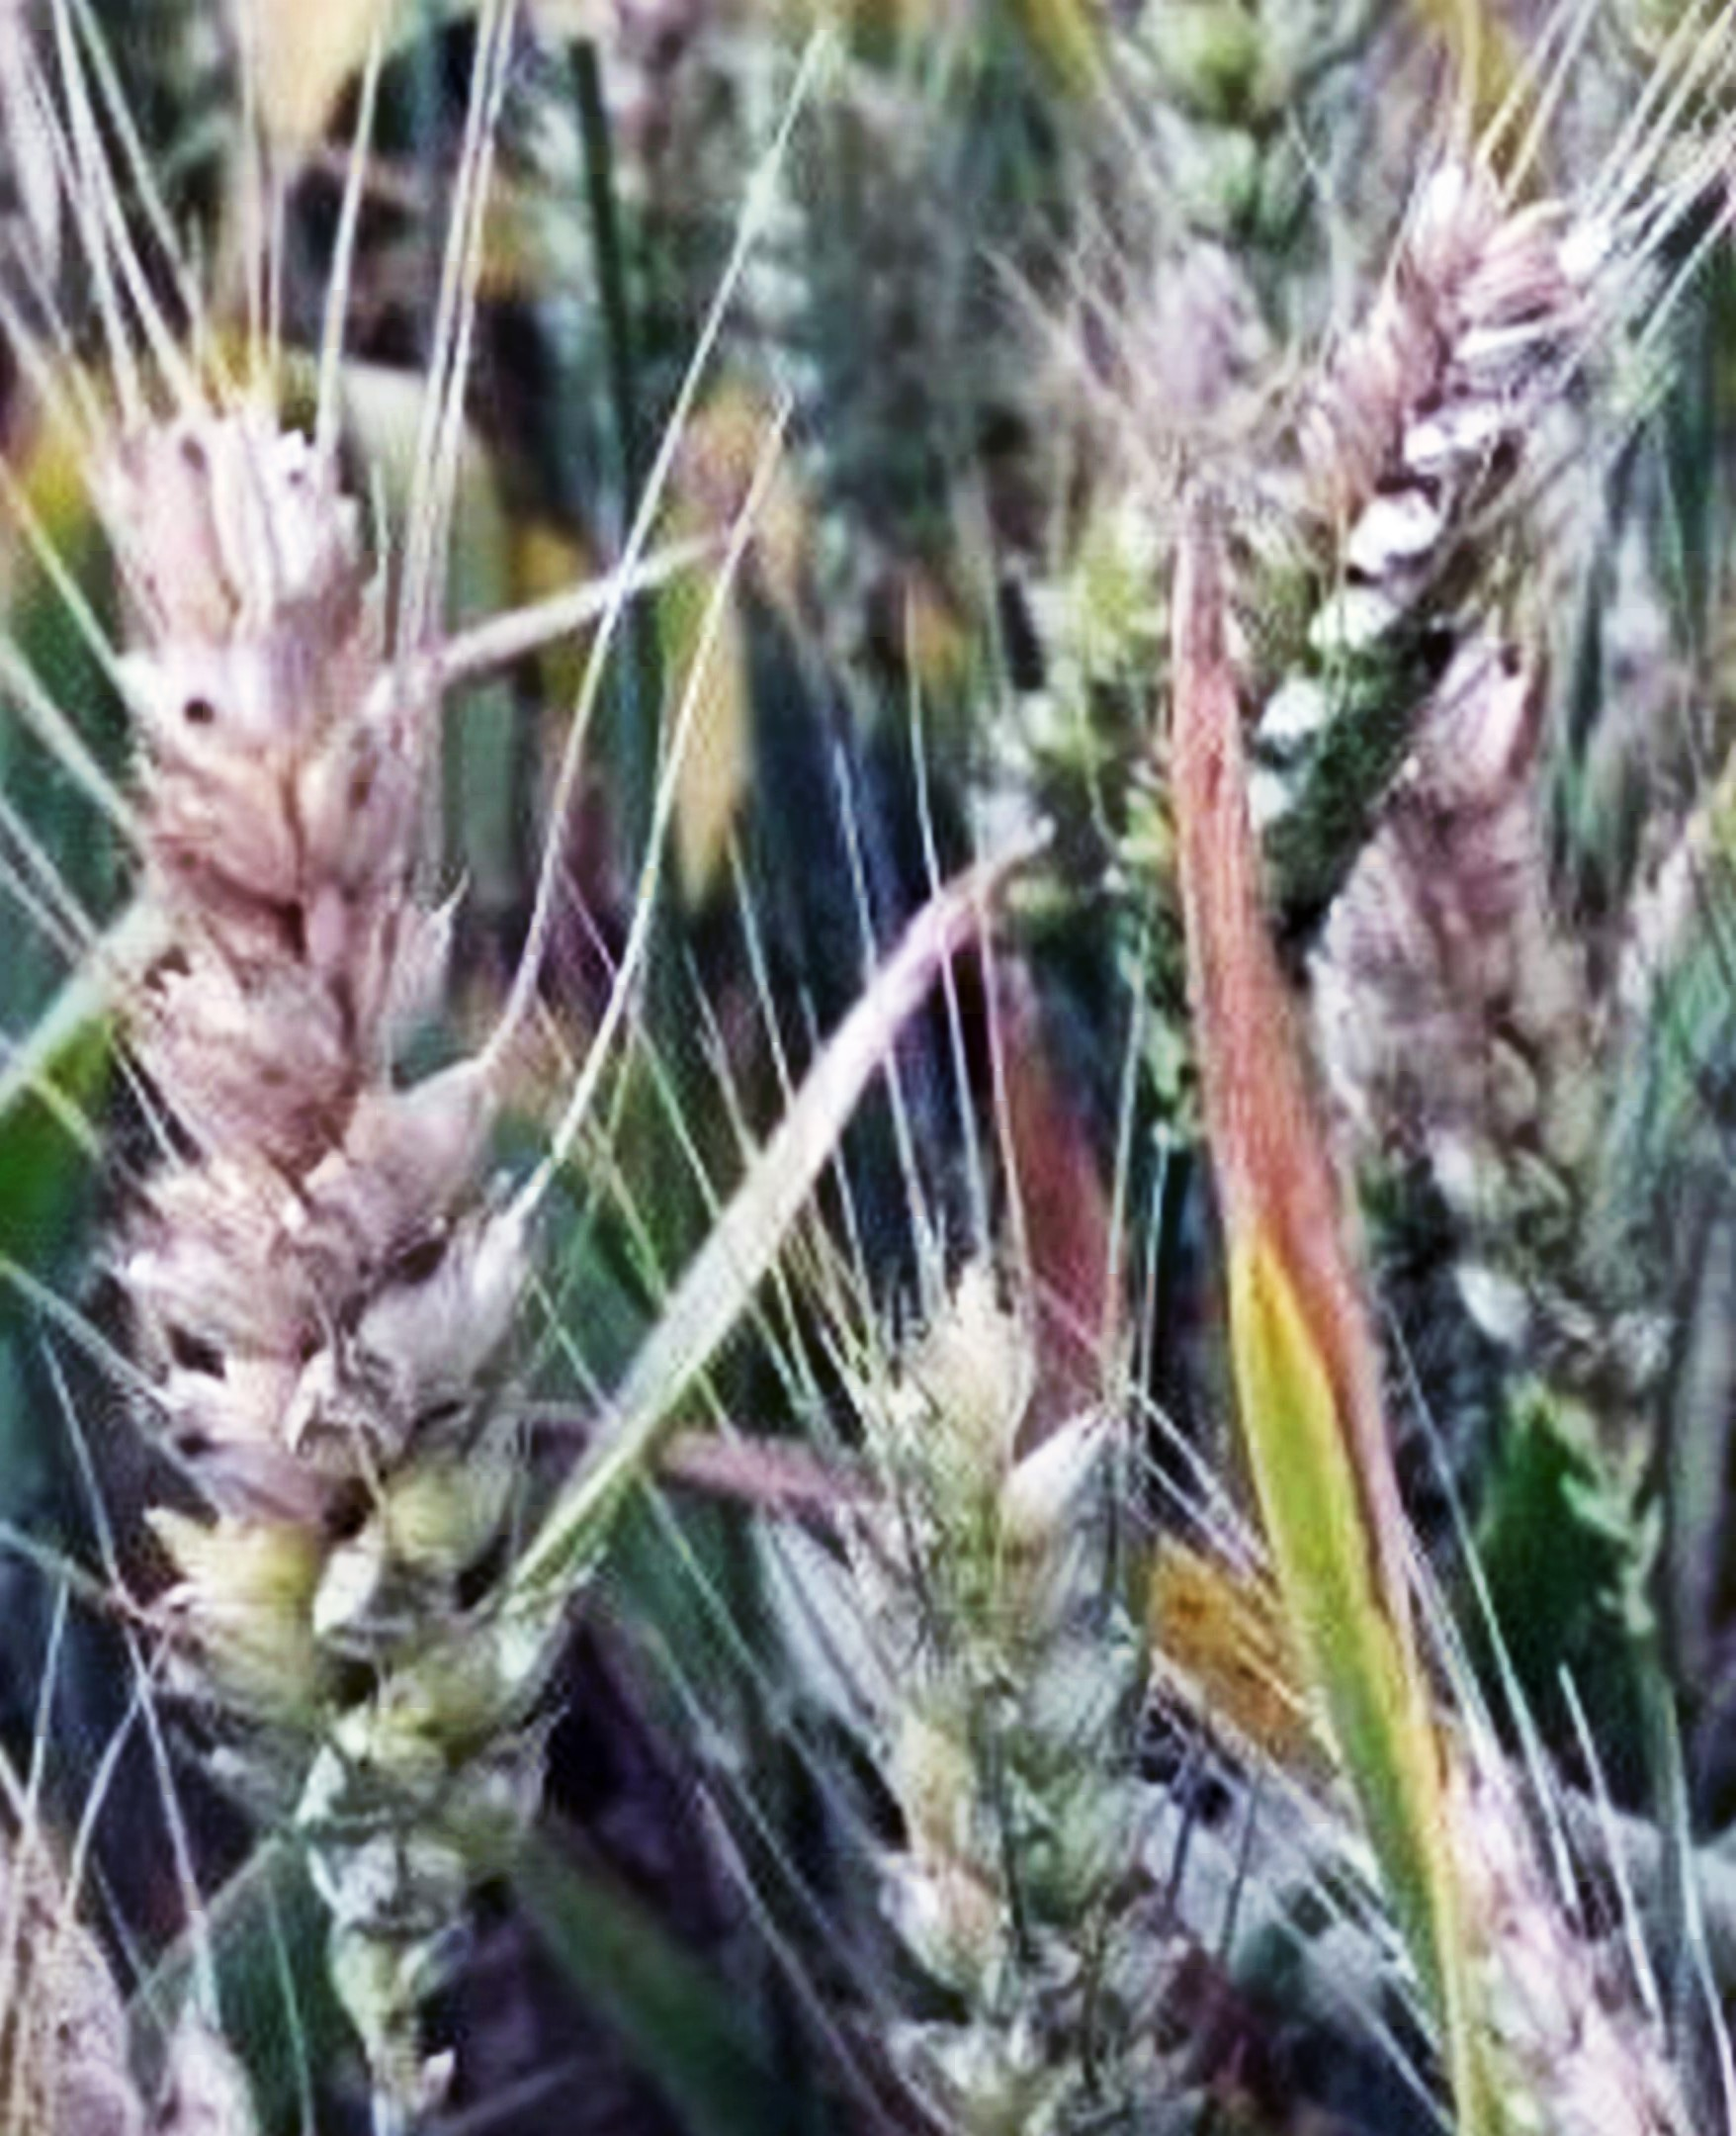Wheat scab: (1075, 175, 1621, 1040)
